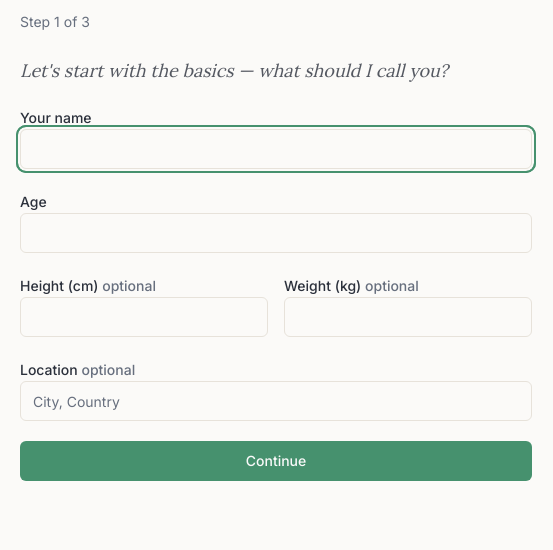
Test: OnboardingPage — Step 1 › shows error when name is empty
This screenshot has width=553, height=550.
Click the button "Continue": (276, 461) x1=20 y1=441 x2=532 y2=481
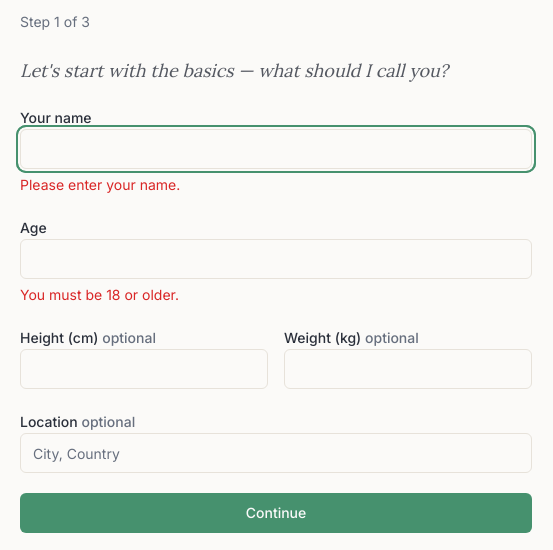
Expected: the text "Please enter your name." is shown, x1=20 y1=176 x2=180 y2=193
